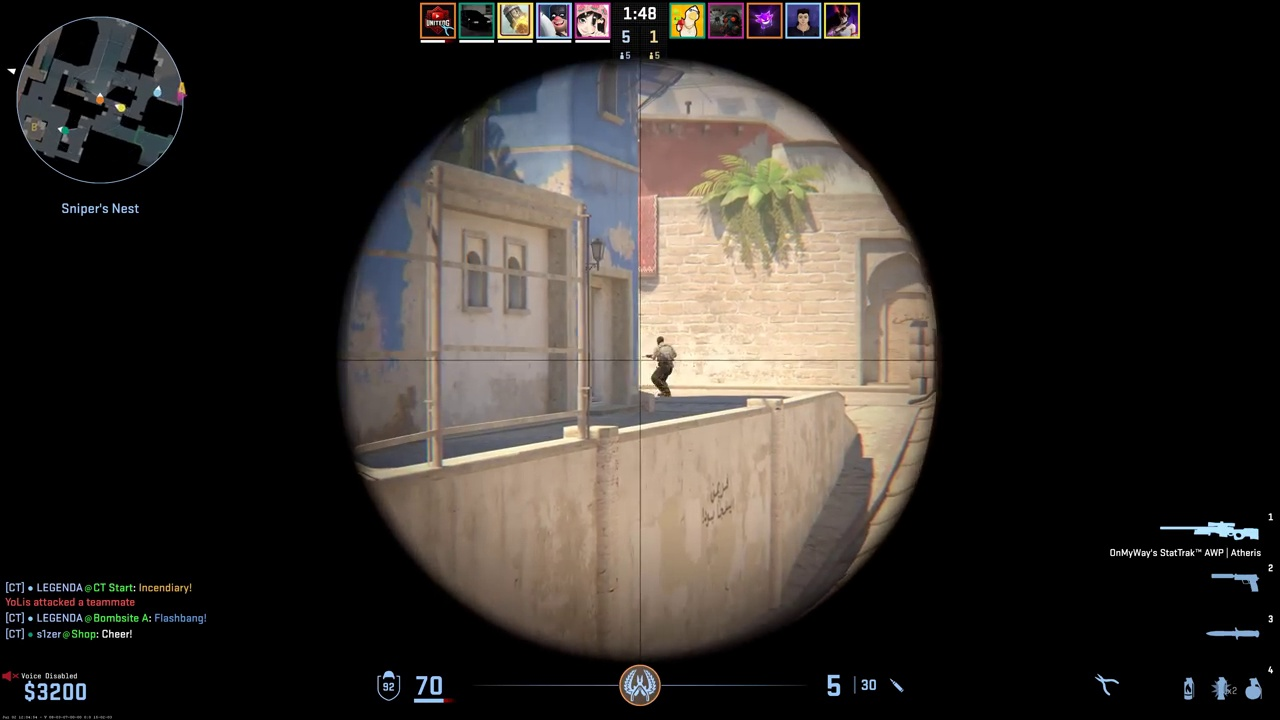Terrorist: (651, 336, 677, 397)
